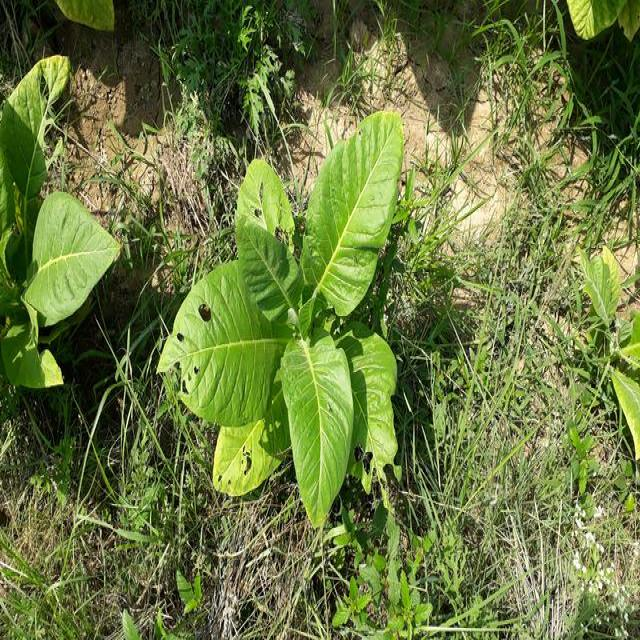crop: (175, 114, 404, 510), (3, 62, 106, 394), (575, 222, 640, 461), (568, 0, 632, 48), (59, 0, 122, 44)
